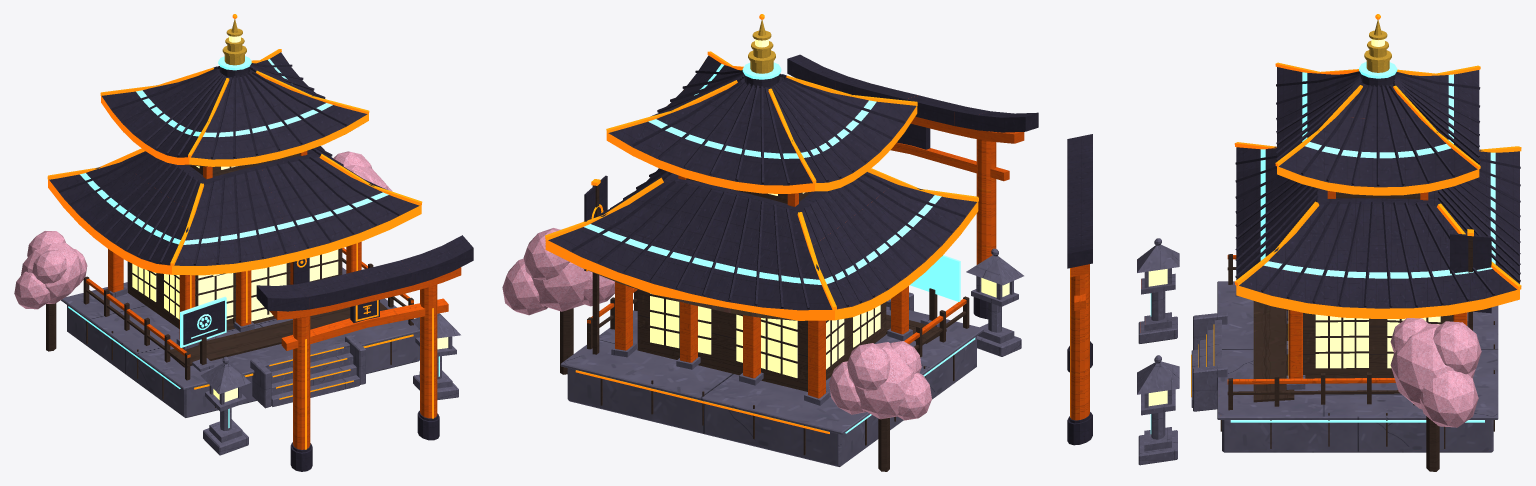
The model's file is templo.glb.
3 renders of one model, left to right at view 1: azimuth 30°, elevation 25°; view 2: azimuth 150°, elevation 25°; view 3: azimuth 270°, elevation 25°, orthographic. The views are drawn at different scales.
Visible parts, largest first — view 1: templo; view 2: templo; view 3: templo.
Boxes of the visible parts, x1,y1,x2,y2 form: templo: [14, 14, 473, 471]; templo: [502, 14, 1038, 471]; templo: [1067, 14, 1521, 471].
Size of the model in its own units: 8.44 by 7.47 by 7.85.
Materials: 4 (1 with a texture image).
